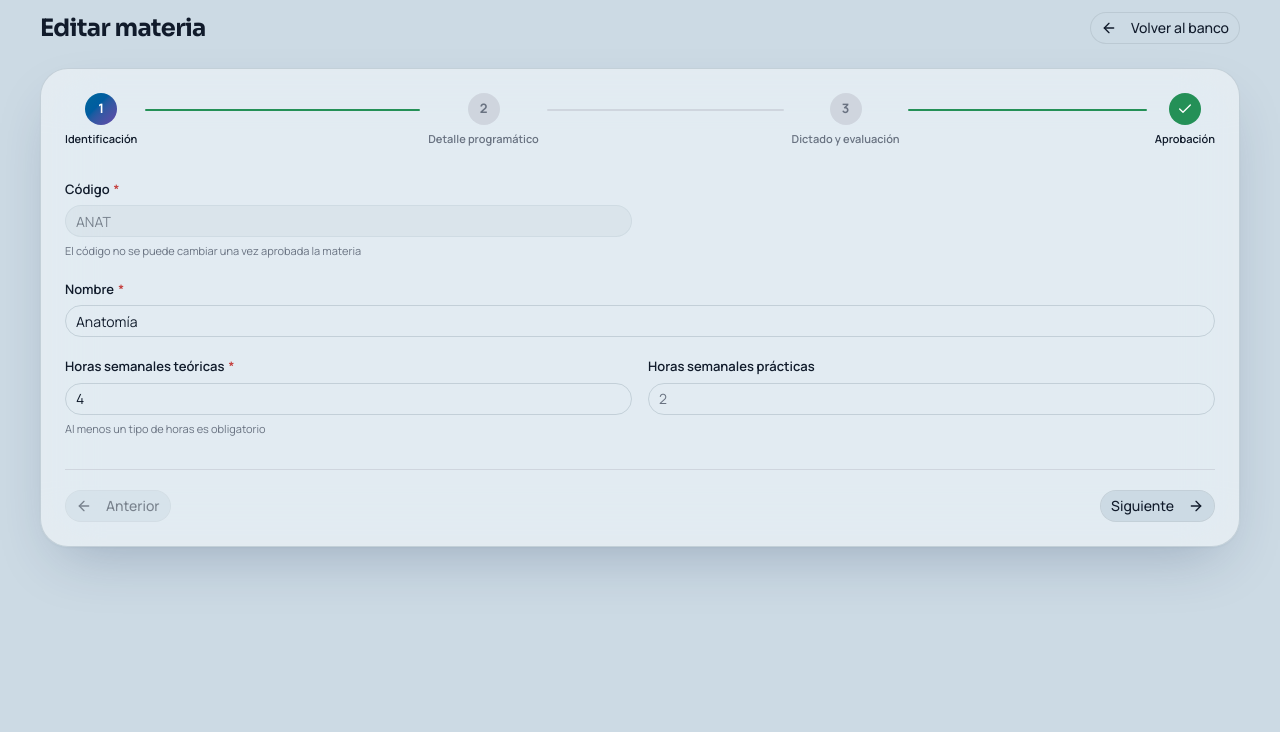
Test: AdministrativoSubjectWizard › keeps an active subject active after saving changes instead of offering to send it for approval
Click the button "Siguiente" at x=1158, y=506, box [1100,490,1215,522]
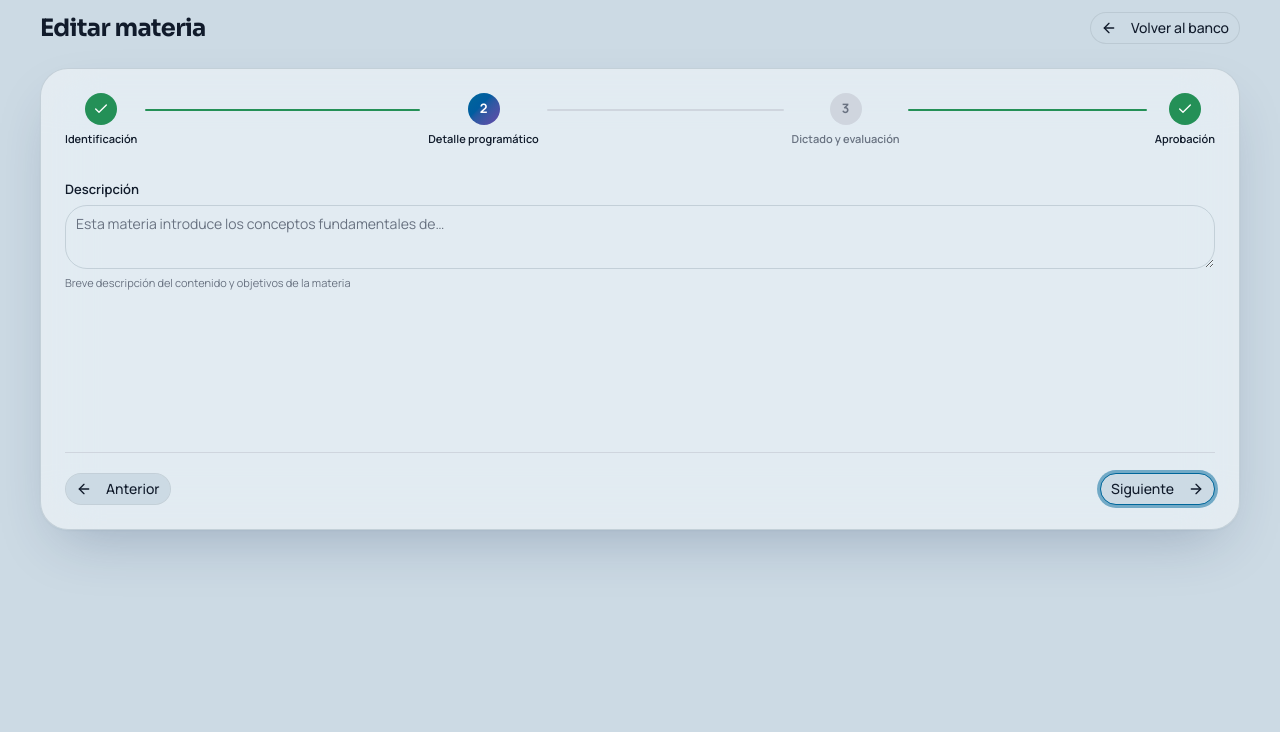
Click the button "Siguiente" at x=1158, y=488, box [1100,472,1215,504]
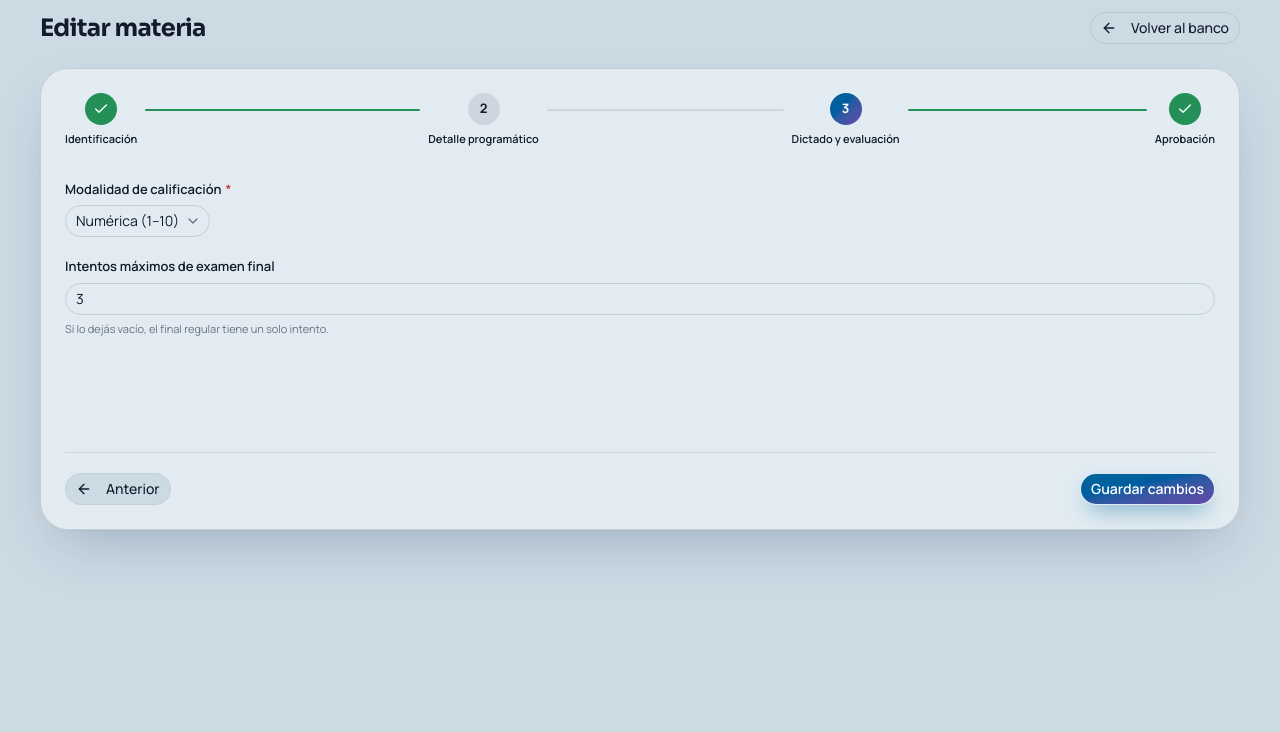
Click the button "Guardar cambios" at x=1148, y=488, box [1080,472,1215,504]
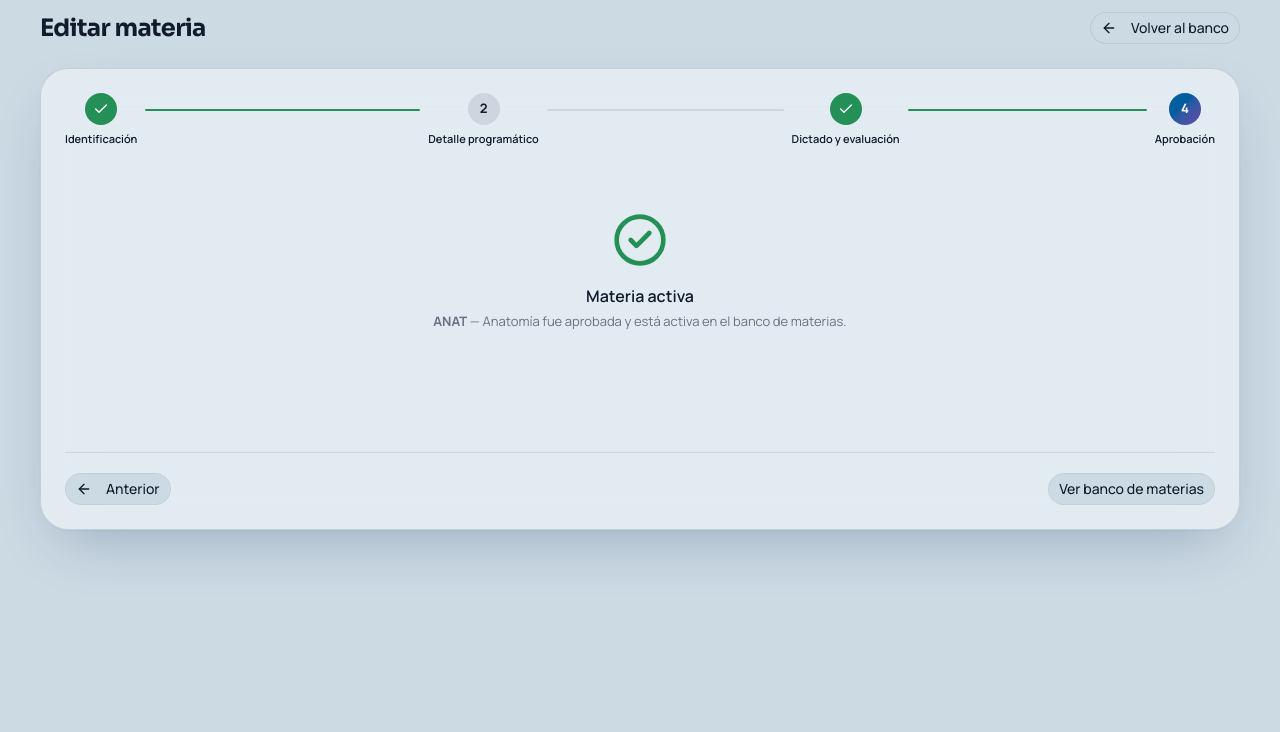
Now the text "Materia activa" is shown, box [586,284,694,306]
